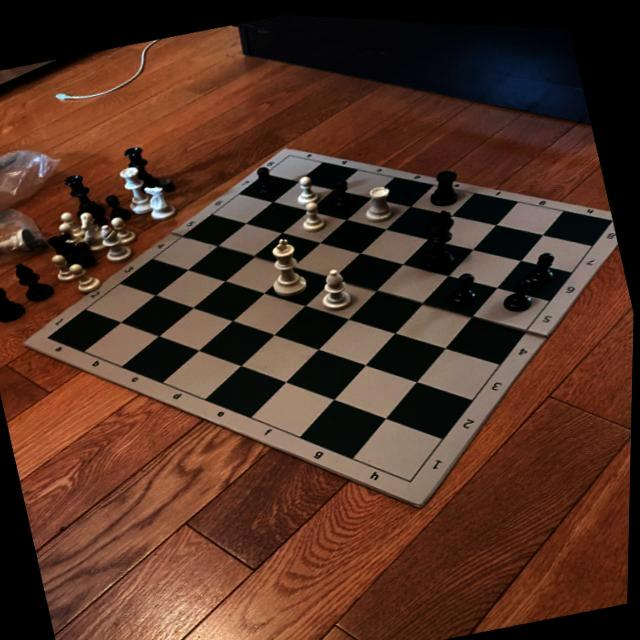chess-table-corners: (400, 466, 423, 482), (41, 332, 59, 346), (280, 146, 297, 160), (604, 207, 614, 220)
